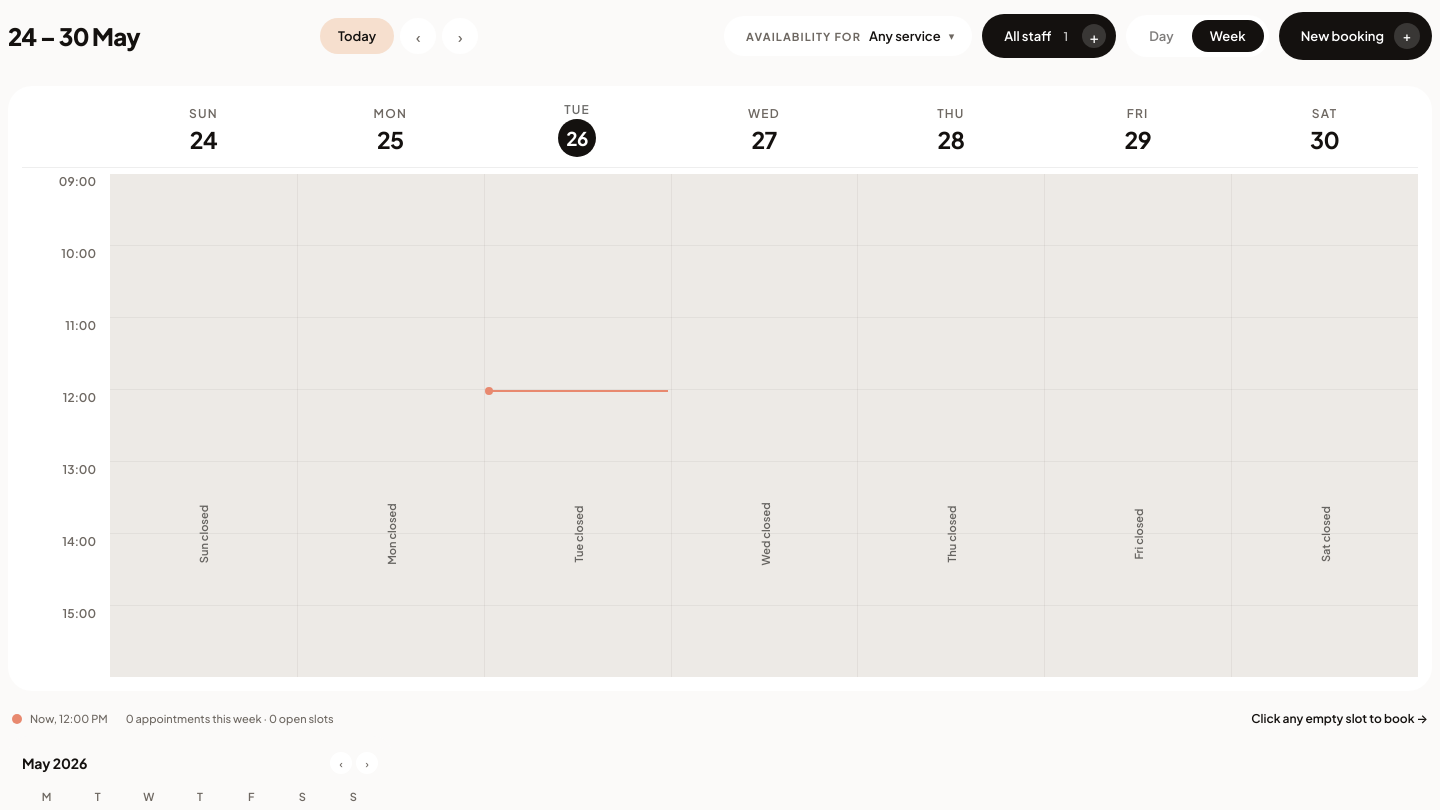
CalendarPage › shows week provider toggle from the provider catalog when the week has no bookings
Expected: the text "24 – 30 May" is shown, [8,21,140,51]
Click the button with aria-label "Staff filter" at (1049, 36), box [982,14,1116,58]
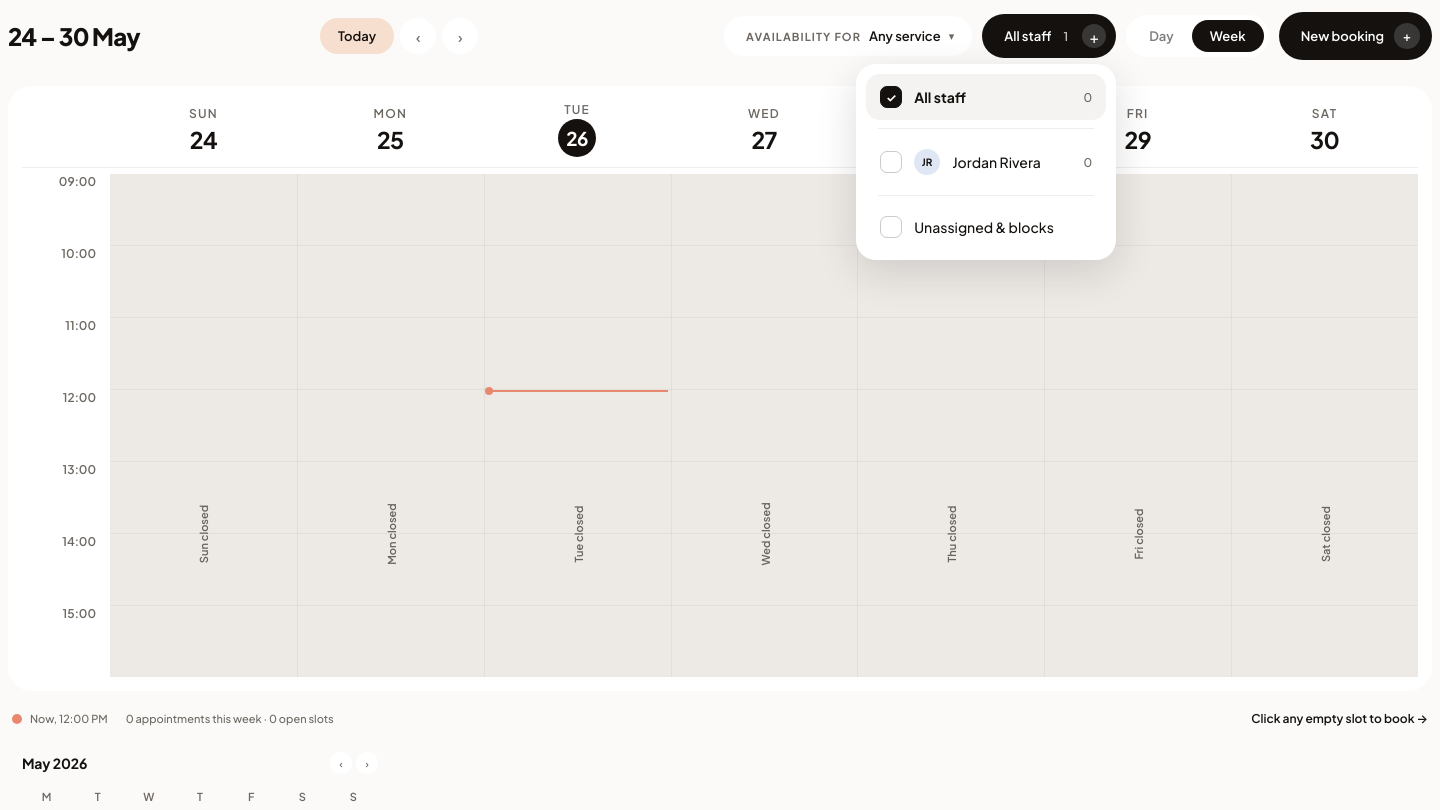
Now the menu item "Jordan Rivera" is shown, box [866,137,1106,187]
